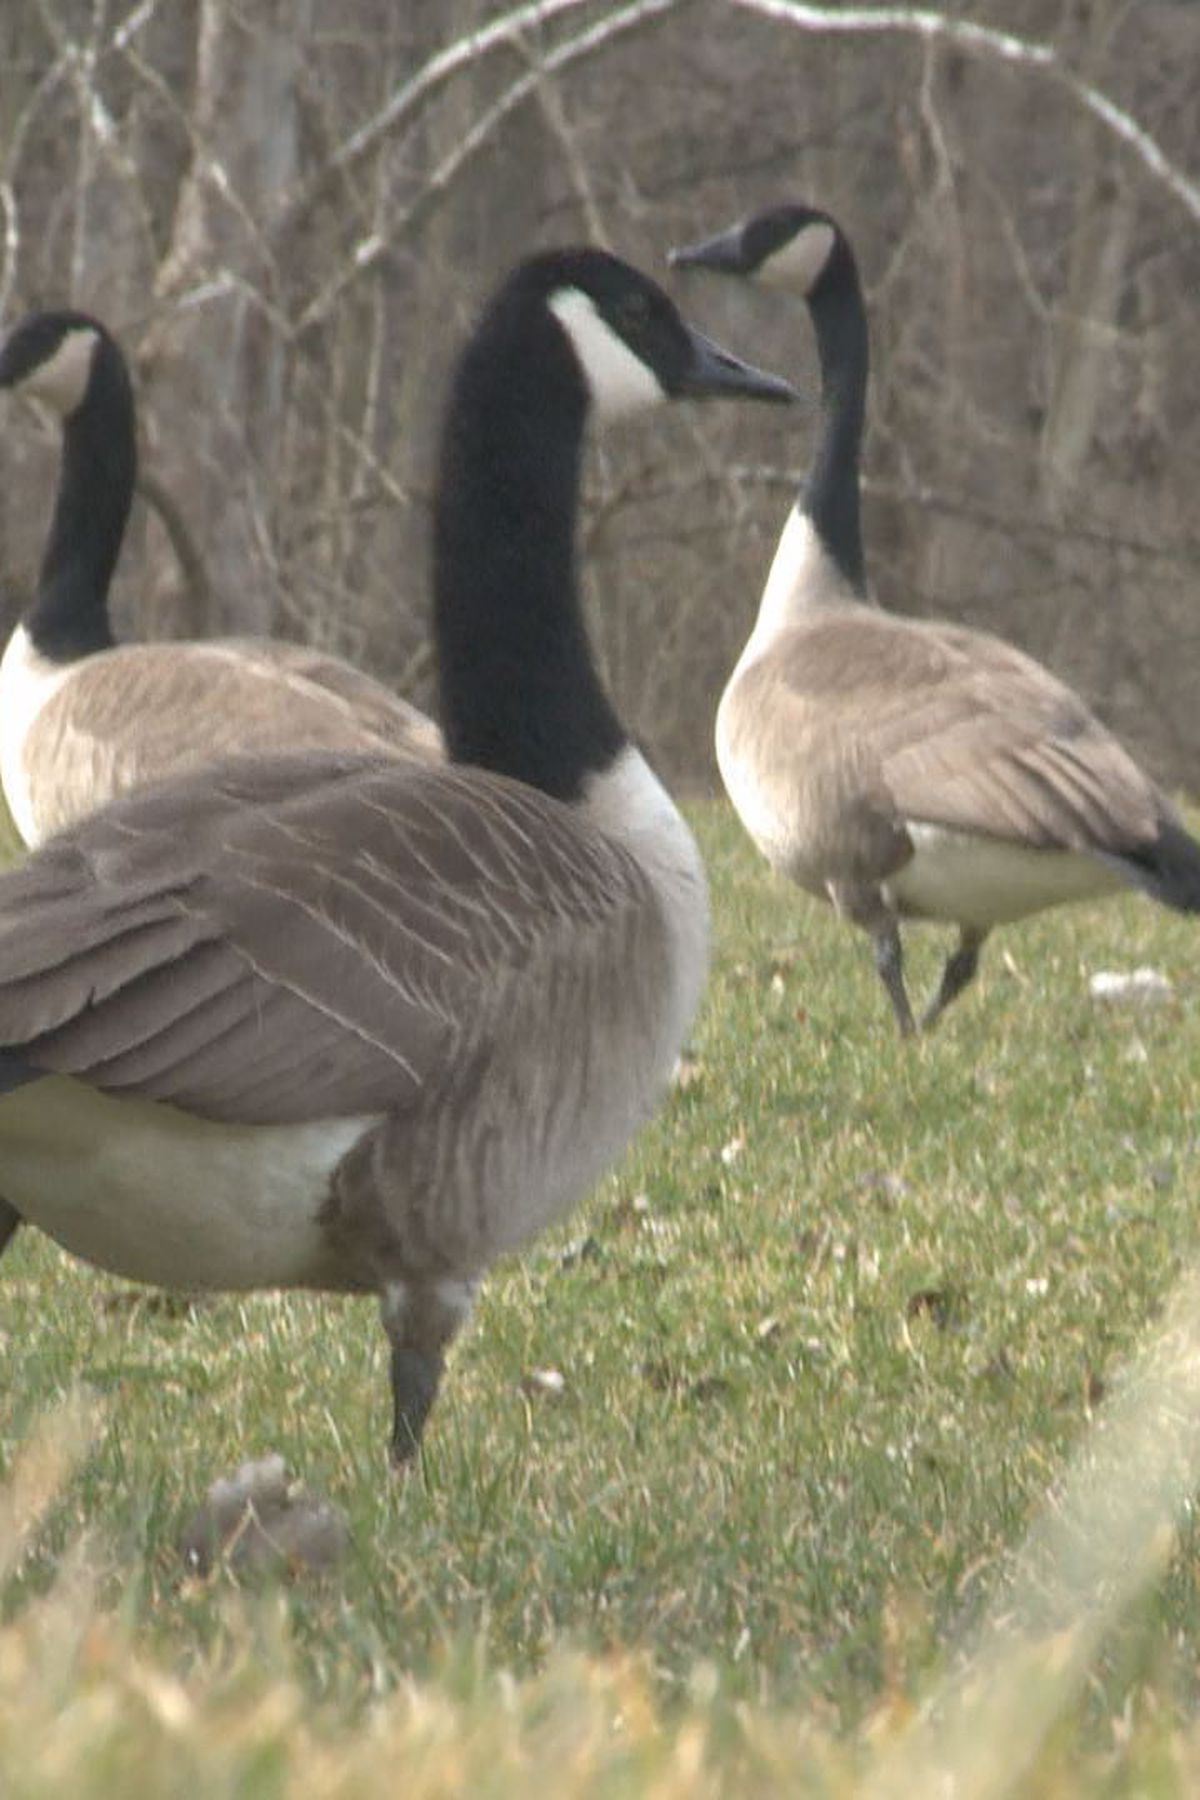goose: (1, 238, 800, 1477), (658, 200, 1200, 1046), (1, 299, 437, 850)
